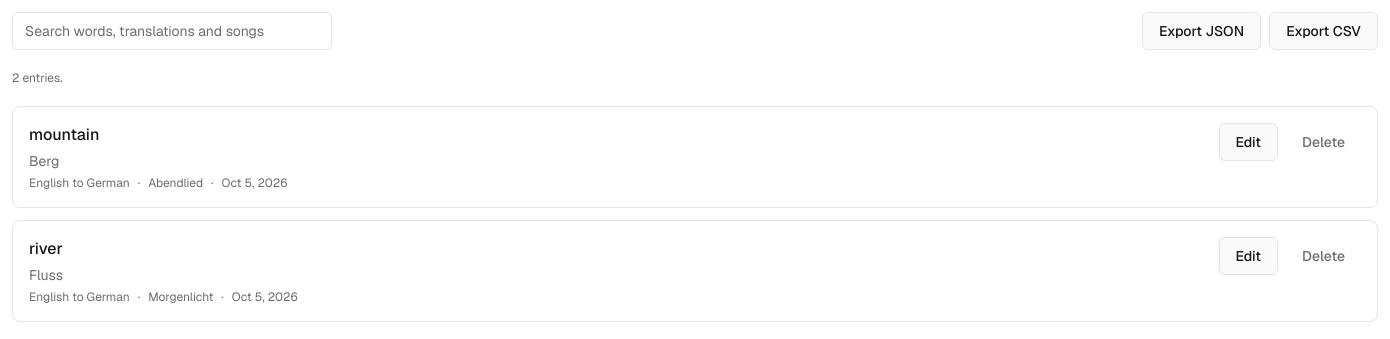
Scenario: VocabularyList › search › ignores case
expect the number of list items is 2: met, box 12,106 -> 1378,208; 12,220 -> 1378,322
Type "RIVER" into the search field named "Search vocabulary" at (172, 31), box 12,12 -> 332,50
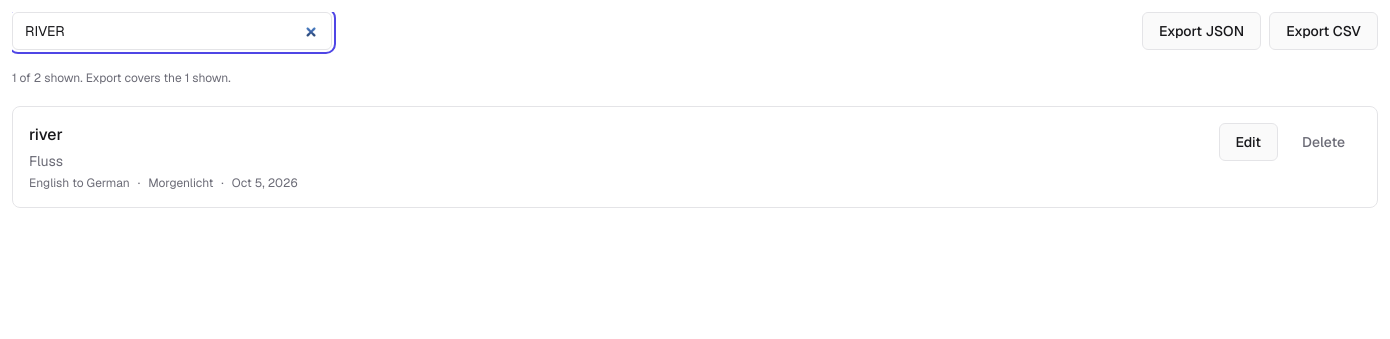
expect the number of list items is 1: met, box 12,106 -> 1378,208
